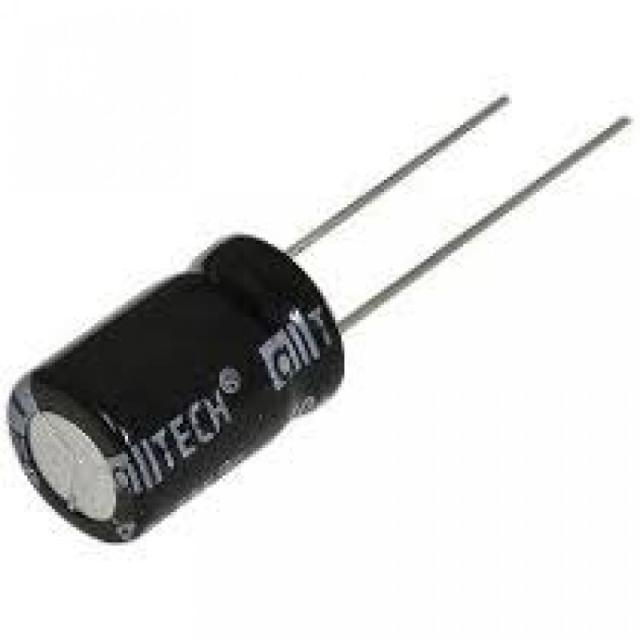Capacitor: (6, 101, 634, 546)
